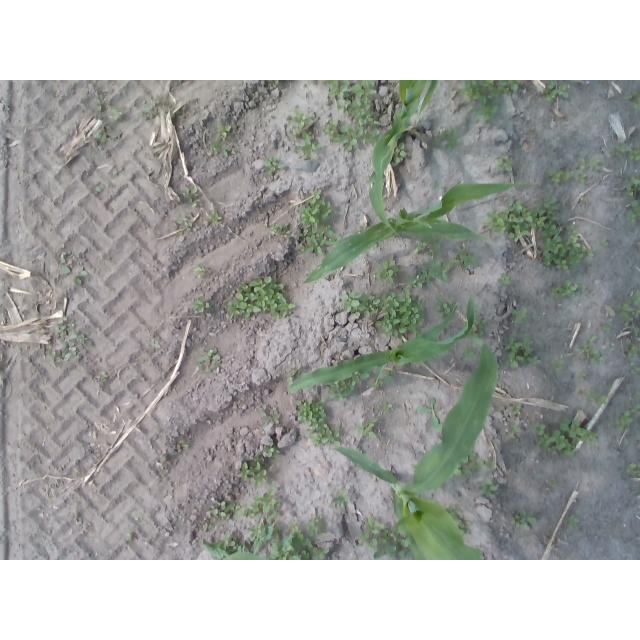Maize: (333, 336, 500, 560), (304, 184, 535, 285), (289, 296, 476, 393), (370, 80, 439, 237), (223, 552, 271, 561)
Weeds: (485, 199, 595, 271), (342, 289, 426, 336), (226, 277, 296, 319), (324, 80, 376, 125), (463, 80, 520, 121), (356, 518, 409, 559), (275, 521, 330, 560), (46, 317, 90, 362), (241, 486, 282, 519), (505, 336, 541, 369), (537, 431, 574, 458), (247, 521, 273, 556), (297, 397, 327, 427), (298, 201, 331, 228), (331, 125, 363, 152), (239, 456, 267, 486), (294, 129, 321, 160), (307, 425, 342, 448), (418, 397, 442, 428), (299, 234, 334, 254), (202, 532, 226, 559), (448, 506, 470, 535), (212, 500, 241, 521), (328, 382, 357, 402), (287, 107, 313, 129), (437, 129, 460, 153), (374, 261, 398, 284), (197, 348, 220, 371), (456, 452, 481, 472), (405, 271, 431, 290), (559, 419, 585, 438), (551, 279, 578, 297), (356, 418, 378, 440), (510, 509, 534, 529), (261, 405, 282, 427), (615, 411, 634, 433), (545, 83, 568, 101), (140, 98, 160, 118), (433, 260, 452, 281), (306, 514, 324, 536), (455, 250, 477, 267), (94, 129, 122, 142), (479, 479, 498, 498), (264, 157, 284, 175), (582, 390, 607, 404), (435, 295, 452, 315), (331, 491, 350, 508), (511, 308, 529, 325), (625, 177, 639, 198), (323, 118, 339, 136), (586, 349, 604, 365), (270, 224, 290, 238), (578, 429, 598, 443), (61, 252, 72, 276), (305, 190, 321, 206), (363, 129, 379, 145), (182, 186, 198, 202), (195, 296, 210, 313), (425, 237, 442, 252), (193, 264, 211, 278), (396, 142, 408, 163), (550, 170, 571, 182), (535, 197, 557, 208), (462, 348, 479, 362), (628, 91, 640, 110), (215, 123, 231, 137), (74, 266, 86, 284), (498, 157, 513, 171), (618, 303, 632, 318), (614, 144, 630, 157), (208, 140, 220, 157), (626, 343, 640, 357), (469, 333, 484, 346), (568, 515, 581, 529), (498, 273, 511, 287), (533, 423, 546, 437), (263, 446, 278, 458), (473, 318, 485, 333), (386, 368, 399, 381), (510, 422, 523, 435), (628, 461, 640, 475), (353, 374, 371, 383), (228, 541, 244, 551), (320, 224, 333, 236), (552, 358, 564, 371), (96, 372, 108, 384), (480, 458, 493, 469), (629, 148, 640, 161), (591, 158, 602, 171), (414, 241, 427, 252), (96, 94, 104, 111), (631, 290, 640, 305), (109, 108, 121, 119), (633, 199, 640, 217), (629, 405, 640, 416), (178, 439, 190, 449), (379, 401, 389, 412), (372, 378, 384, 387), (576, 371, 586, 381), (628, 212, 637, 223), (603, 321, 612, 332), (299, 229, 311, 237), (580, 158, 587, 171), (151, 340, 161, 349), (579, 345, 589, 354), (514, 405, 523, 415), (632, 327, 640, 338), (186, 222, 195, 231), (577, 174, 586, 183), (212, 211, 220, 221), (549, 478, 558, 486), (179, 217, 191, 223), (600, 239, 609, 247), (626, 316, 635, 324), (631, 364, 640, 372), (586, 335, 596, 342), (633, 307, 640, 317), (224, 148, 231, 156), (95, 186, 102, 194), (127, 533, 134, 540), (625, 338, 631, 345), (635, 391, 640, 398)
